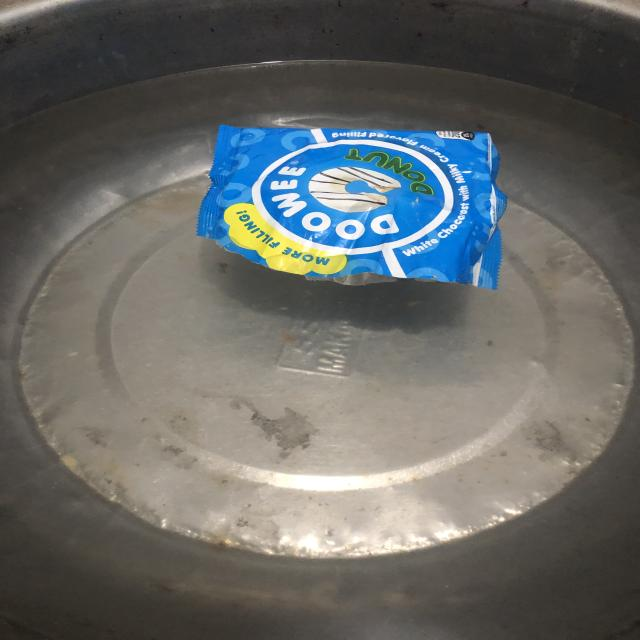Plastic Wrapper: (197, 125, 507, 289)
